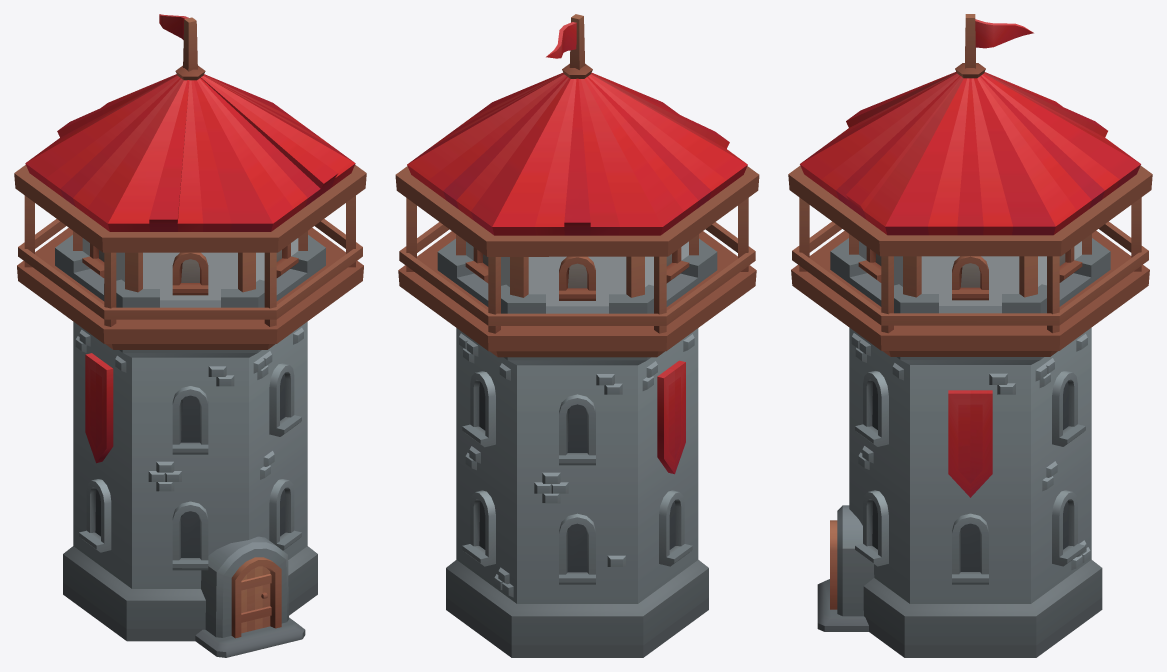
Rendered from kk_tower_b_v1.glb.
3 views of the same model, side by side, from view 1: azimuth 30°, elevation 25°; view 2: azimuth 150°, elevation 25°; view 3: azimuth 270°, elevation 25° (orthographic). The views are drawn at different scales.
Parts seen in each view (by area): view 1: building_tower_B_red; view 2: building_tower_B_red; view 3: building_tower_B_red.
Boxes of the visible parts, x1,y1,x2,y2 form: building_tower_B_red: (14,14,366,657); building_tower_B_red: (395,14,759,657); building_tower_B_red: (788,14,1152,657).
Bounding box in the file's own units: 1.2 × 2.49 × 1.38.
1 material, 1 textured.
